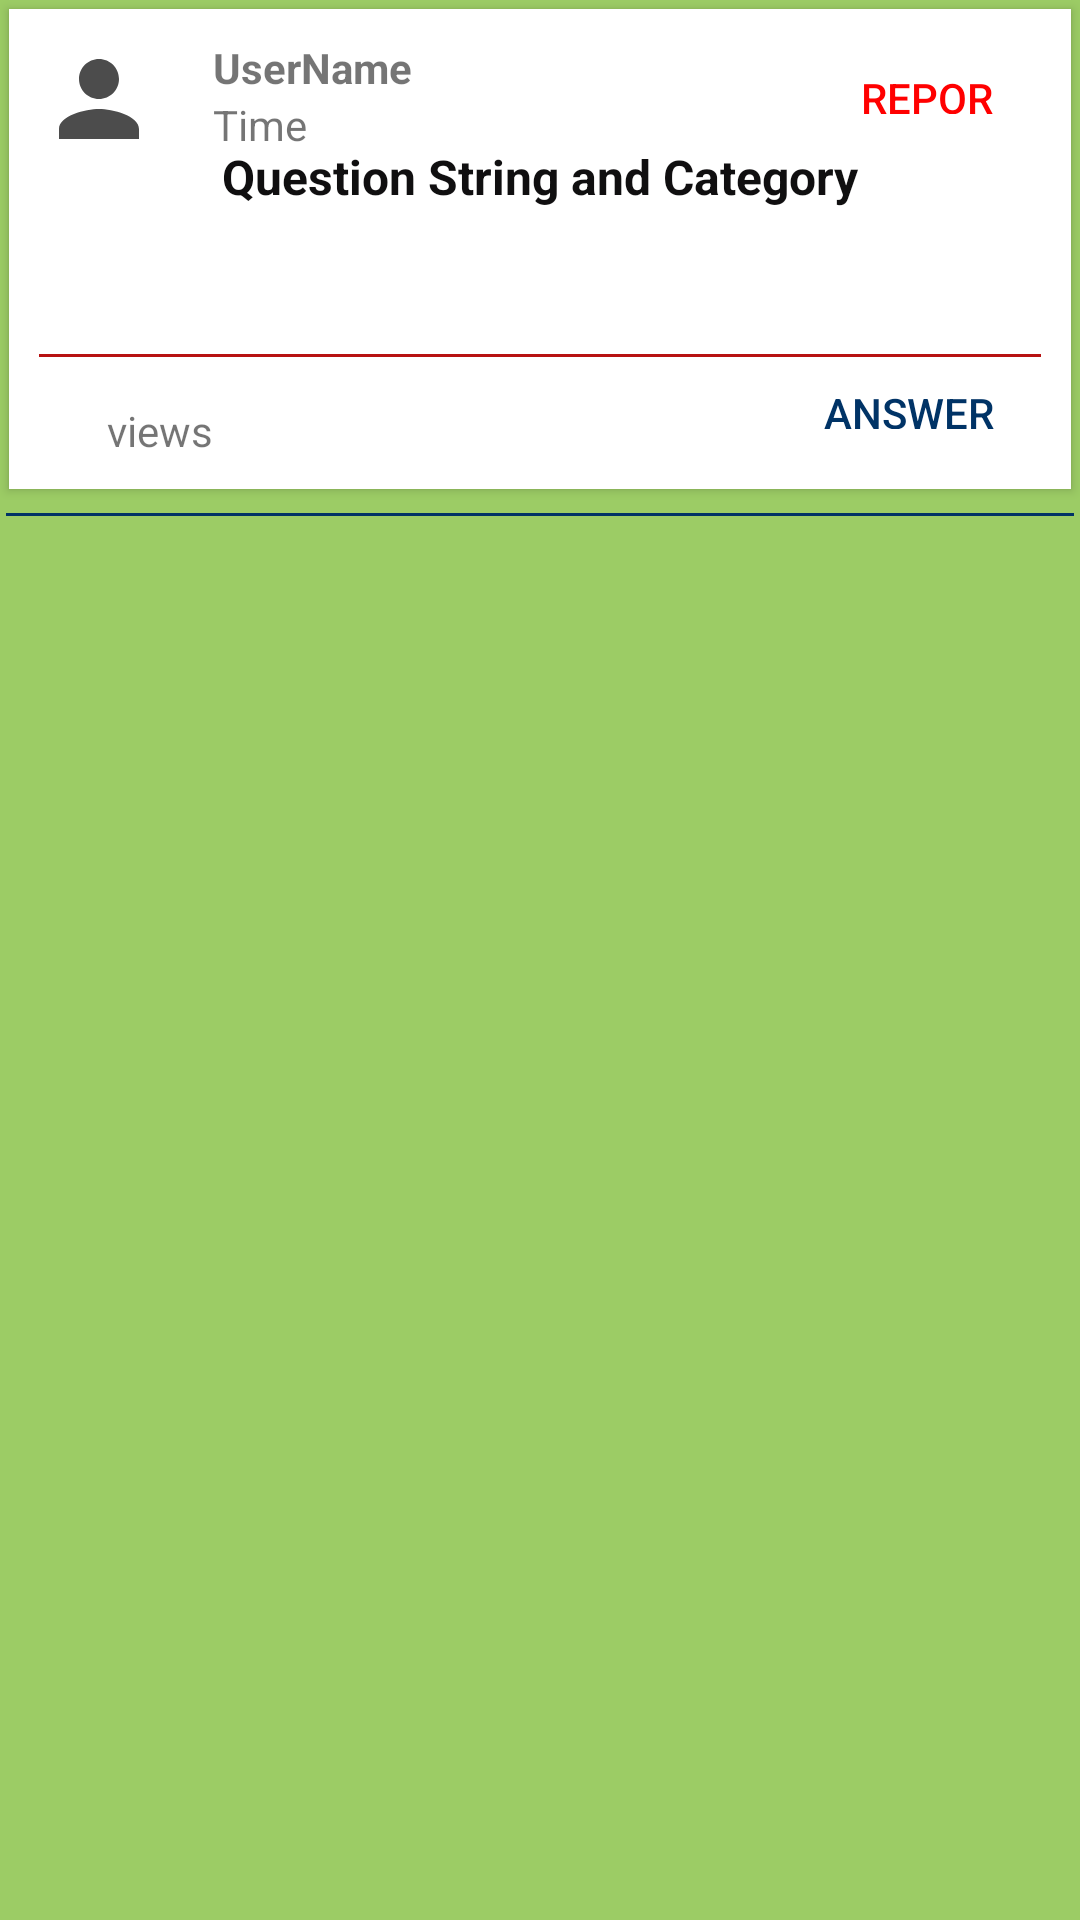

Where icons sit on this 1080*1920 app screen, as (x1, y1, x2, y2):
person: (59, 59, 139, 139)
